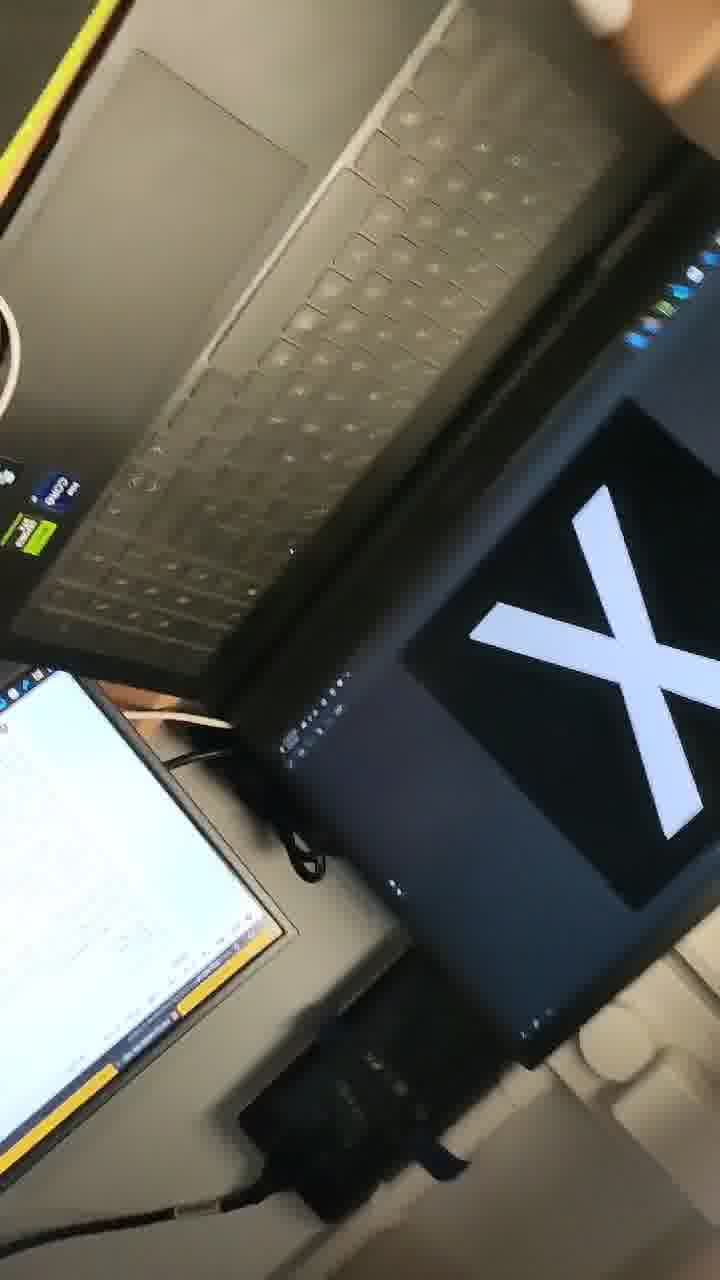X: (454, 459, 720, 902)
